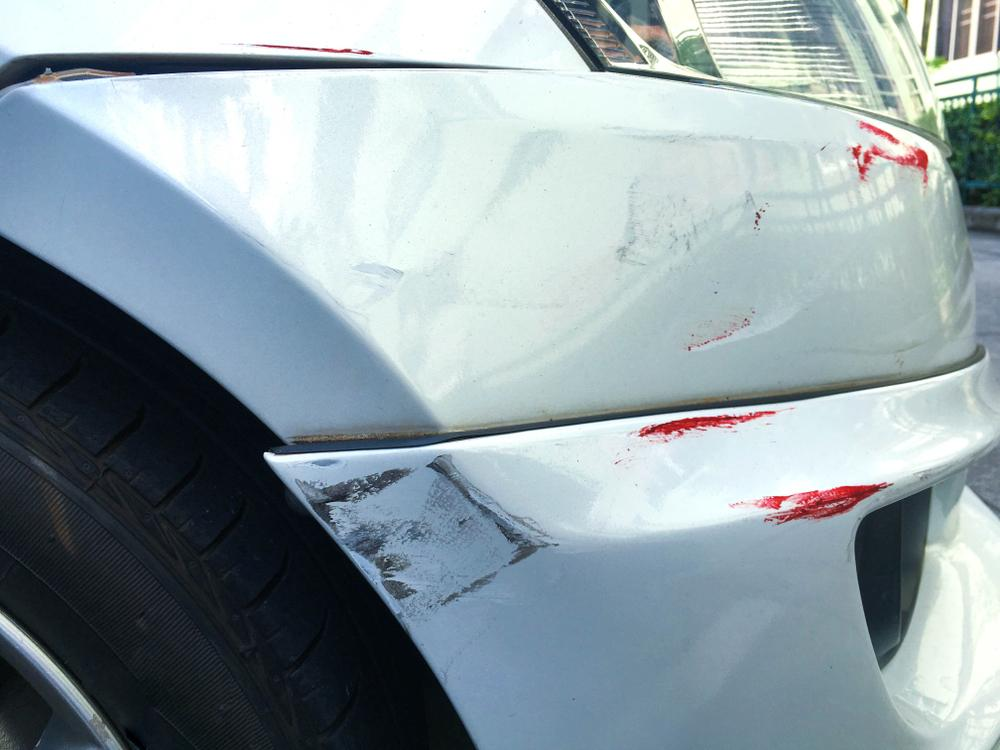scratch: (612, 120, 952, 360), (284, 450, 583, 623), (724, 464, 968, 528), (622, 403, 792, 468), (236, 37, 395, 62)
